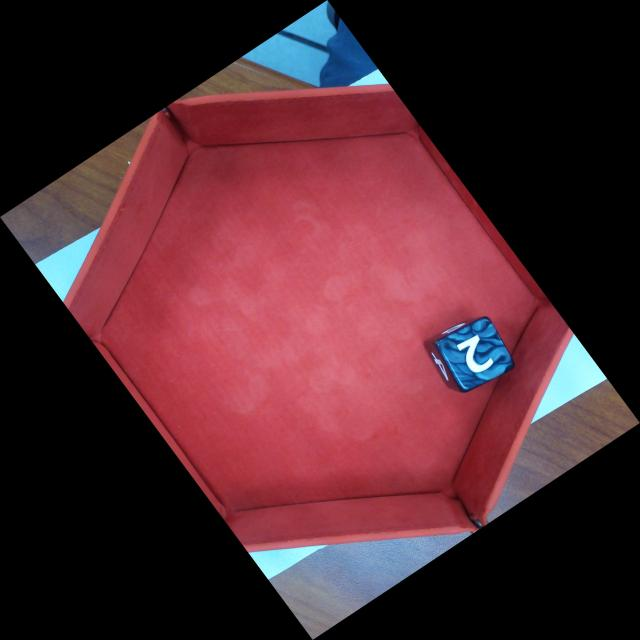dice: (439, 315, 516, 394)
